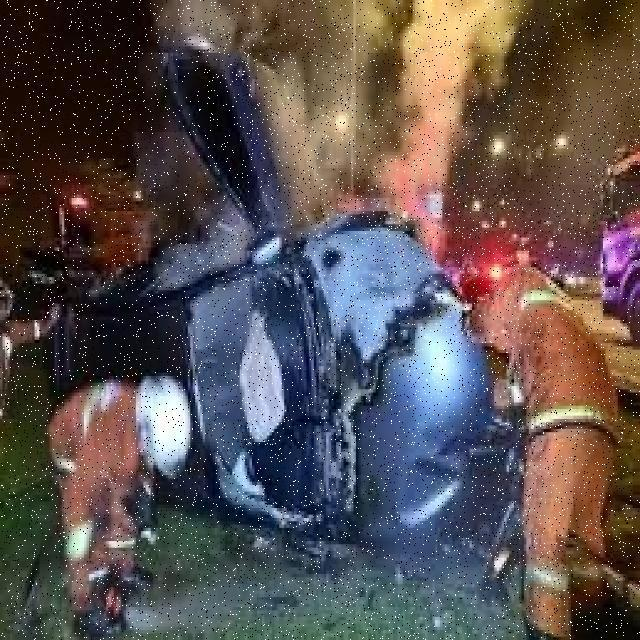accident: (45, 109, 532, 583)
